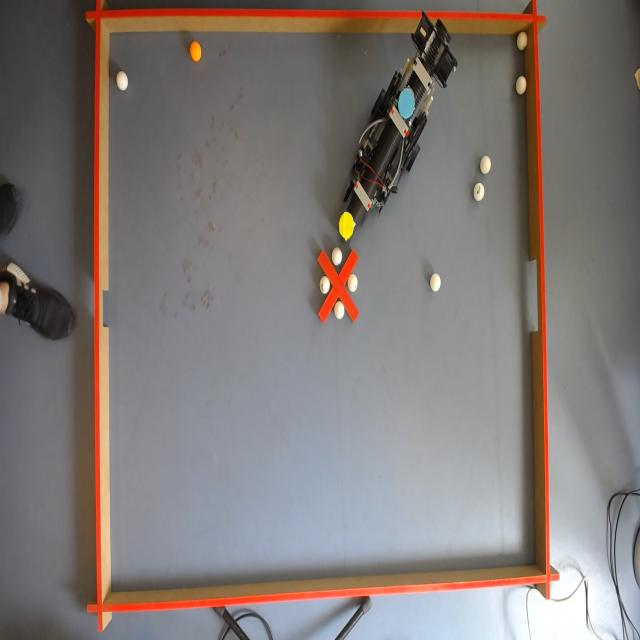orange: (190, 43, 204, 64)
robot: (336, 7, 456, 242)
robot-front: (340, 213, 354, 243)
robot-rear: (397, 84, 416, 122)
white: (116, 71, 128, 94), (430, 271, 443, 292), (516, 33, 529, 52), (332, 301, 344, 321), (515, 76, 527, 96), (479, 156, 491, 174), (332, 250, 344, 267), (475, 185, 485, 202), (348, 276, 358, 290), (320, 278, 330, 292)
